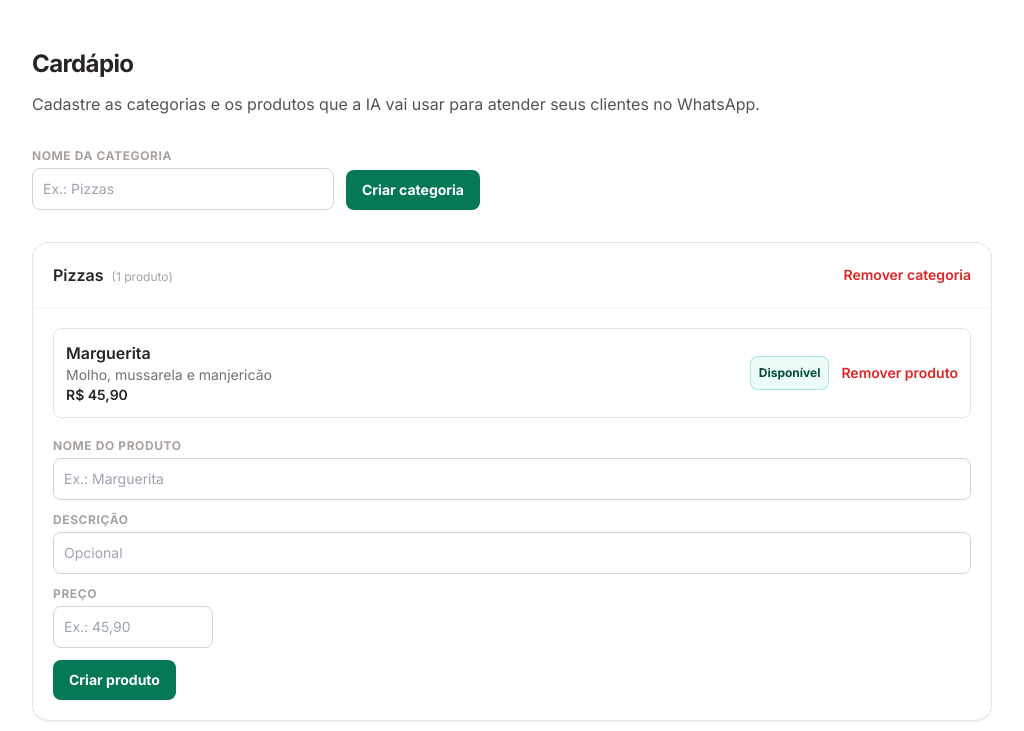
Test: Cardapio › mostra a mensagem do backend ao tentar remover categoria com produto associado
Expected: the button "Pizzas(1 produto)" is shown, [53, 263, 173, 287]
Click the button "Remover categoria". click: (907, 275)
box: [844, 265, 971, 285]
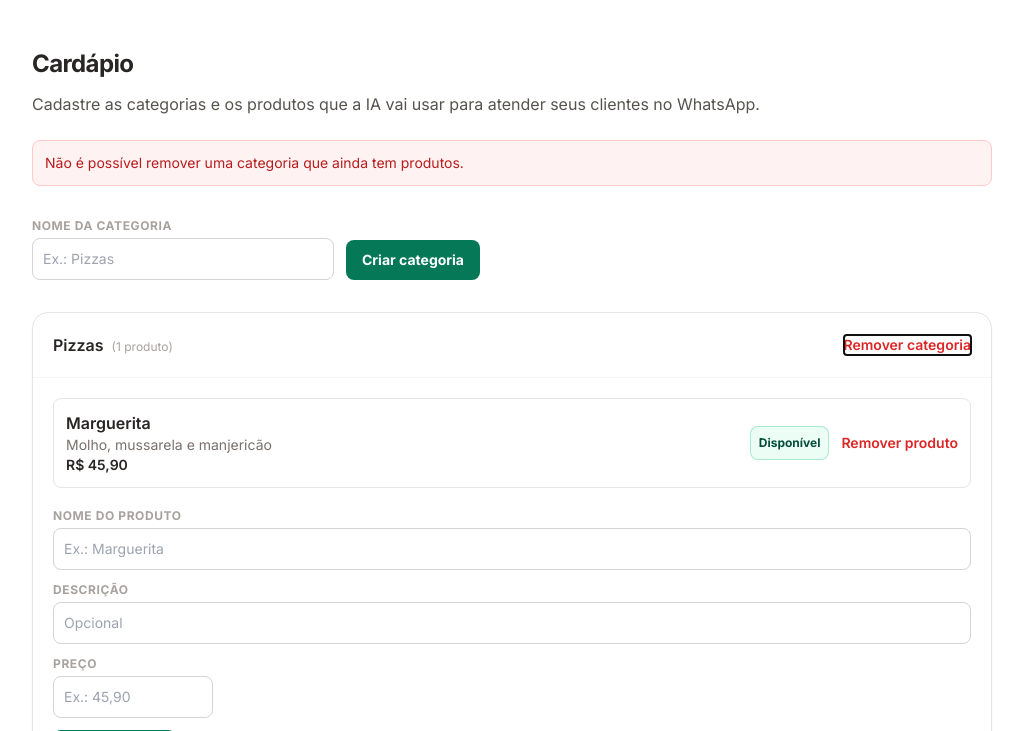
Expected: the button "Pizzas(1 produto)" is shown, [53, 333, 173, 357]
Result: the message reads "Não é possível remover uma categoria que ainda tem produtos." at [45, 154, 464, 171]
